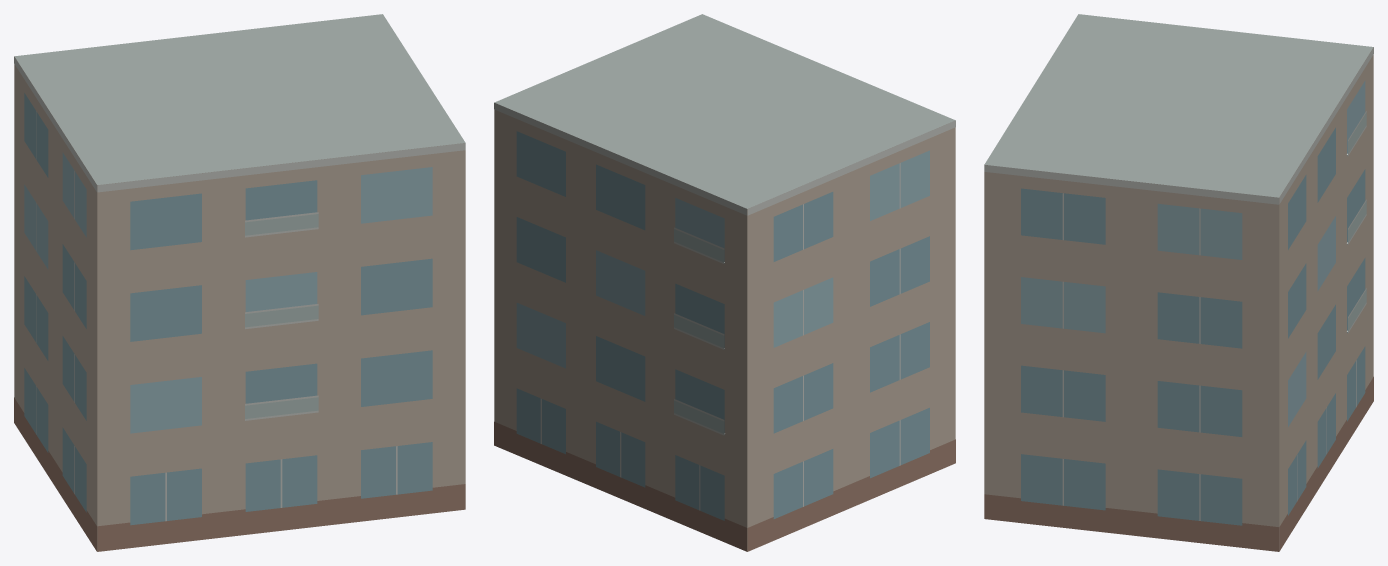
Rendered from residential-56dd6257-2d30-48b5-a415-c25c982be4db.glb.
3 views of the same model, side by side, from view 1: azimuth 30°, elevation 25°; view 2: azimuth 150°, elevation 25°; view 3: azimuth 270°, elevation 25° (orthographic). The views are drawn at different scales.
Visible parts, largest first — view 1: residential-56dd6257-2d30-48b5-a415-c25c982be4db.tmp; view 2: residential-56dd6257-2d30-48b5-a415-c25c982be4db.tmp; view 3: residential-56dd6257-2d30-48b5-a415-c25c982be4db.tmp.
Boxes of the visible parts, <box> form: residential-56dd6257-2d30-48b5-a415-c25c982be4db.tmp: <box>14,14,465,551</box>; residential-56dd6257-2d30-48b5-a415-c25c982be4db.tmp: <box>494,14,955,551</box>; residential-56dd6257-2d30-48b5-a415-c25c982be4db.tmp: <box>984,14,1373,551</box>.
Bounding box in the file's own units: 13.58 × 12.2 × 12.17.
